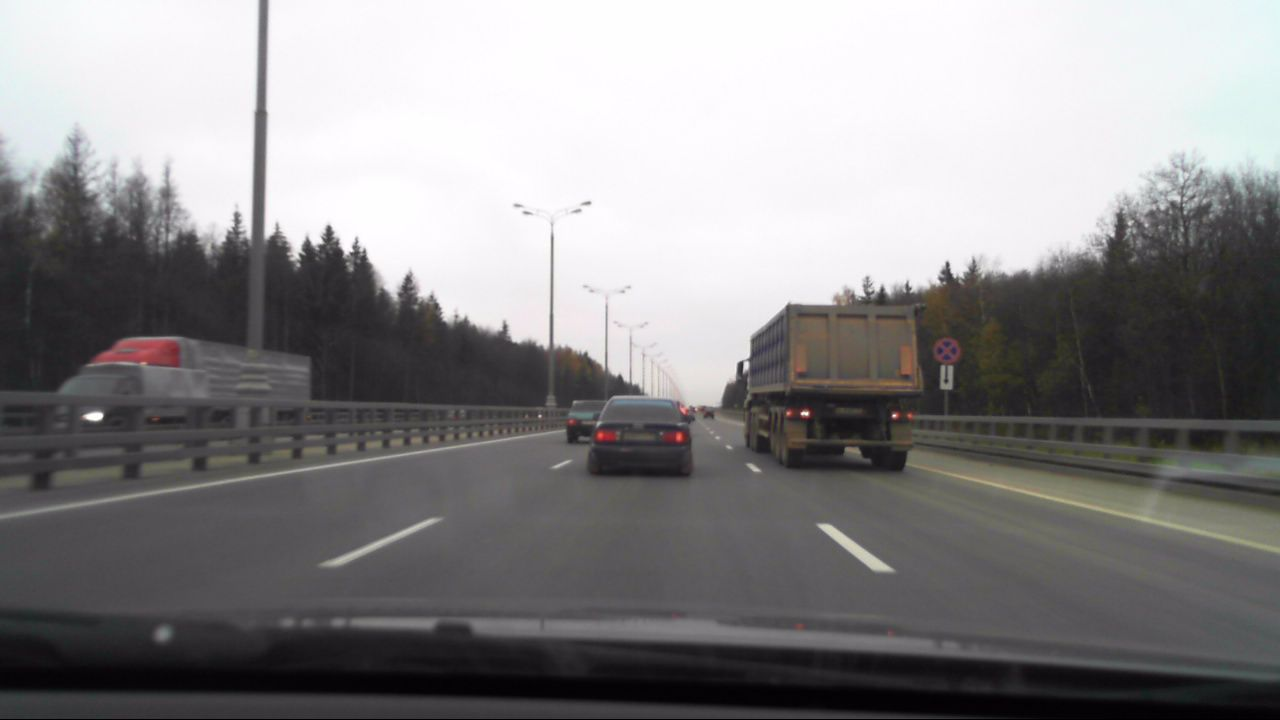No Parking: (933, 337, 960, 362)
